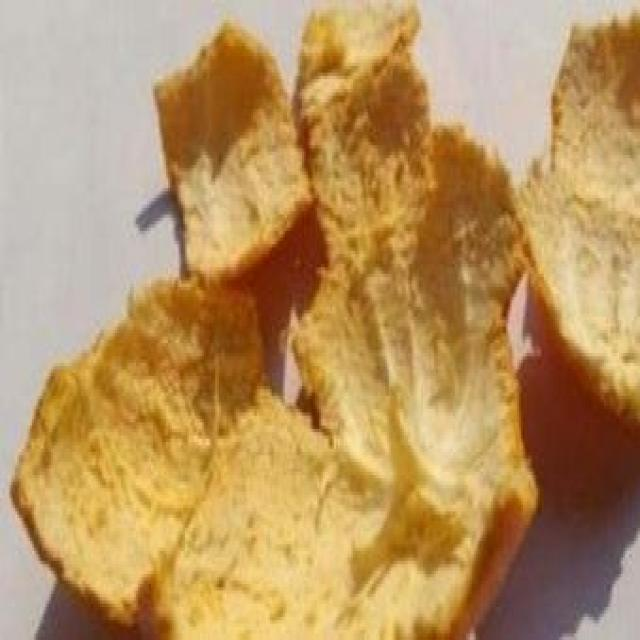organic: (11, 0, 640, 640)
